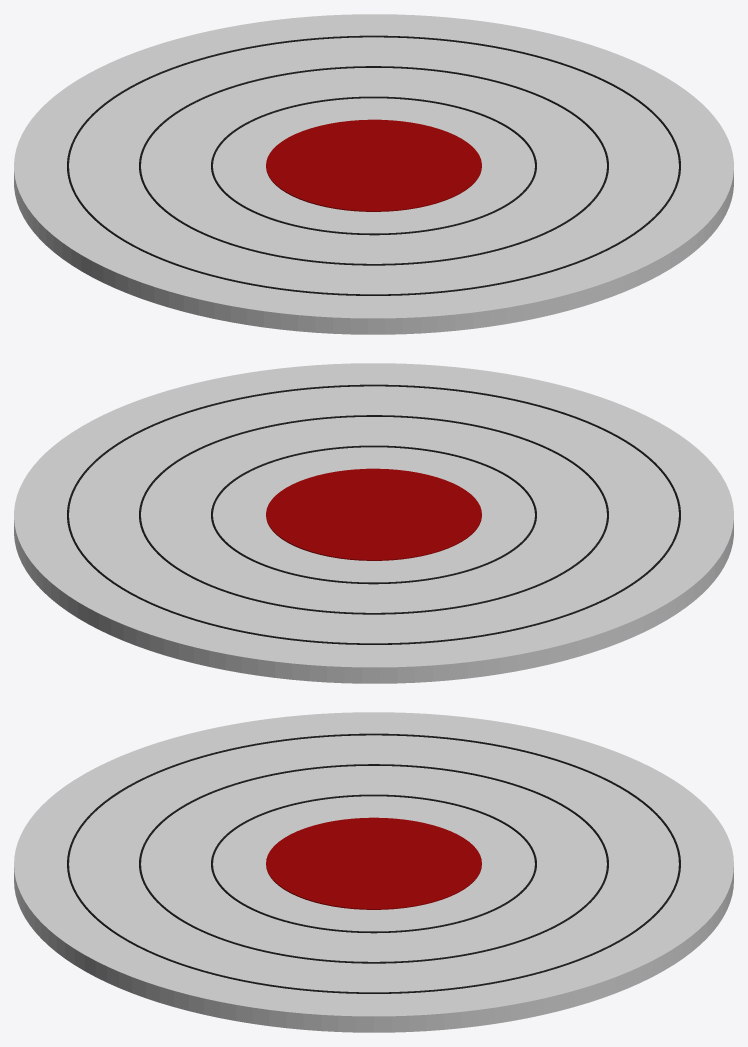
Rendered from vinyl.glb.
The picture shows the model from 3 angles, top to bottom: view 1: azimuth 30°, elevation 25°; view 2: azimuth 150°, elevation 25°; view 3: azimuth 270°, elevation 25°; orthographic projection.
Visible parts, largest first — view 1: VinylRecord, LabelDisc, Groove_0.85, Groove_0.65, Groove_0.45; view 2: VinylRecord, LabelDisc, Groove_0.85, Groove_0.65, Groove_0.45; view 3: VinylRecord, LabelDisc, Groove_0.85, Groove_0.65, Groove_0.45.
Boxes of the visible parts, <box> form: VinylRecord: <box>14,14,733,334</box>; LabelDisc: <box>266,119,481,211</box>; Groove_0.85: <box>67,35,680,295</box>; Groove_0.65: <box>139,66,608,265</box>; Groove_0.45: <box>211,96,536,235</box>; VinylRecord: <box>14,363,733,683</box>; LabelDisc: <box>266,468,481,560</box>; Groove_0.85: <box>67,384,680,644</box>; Groove_0.65: <box>139,415,608,614</box>; Groove_0.45: <box>211,445,536,584</box>; VinylRecord: <box>14,712,733,1032</box>; LabelDisc: <box>266,817,481,909</box>; Groove_0.85: <box>67,733,680,993</box>; Groove_0.65: <box>139,764,608,963</box>; Groove_0.45: <box>211,794,536,933</box>.
Size of the model in its own units: 2 by 0.057 by 2.
